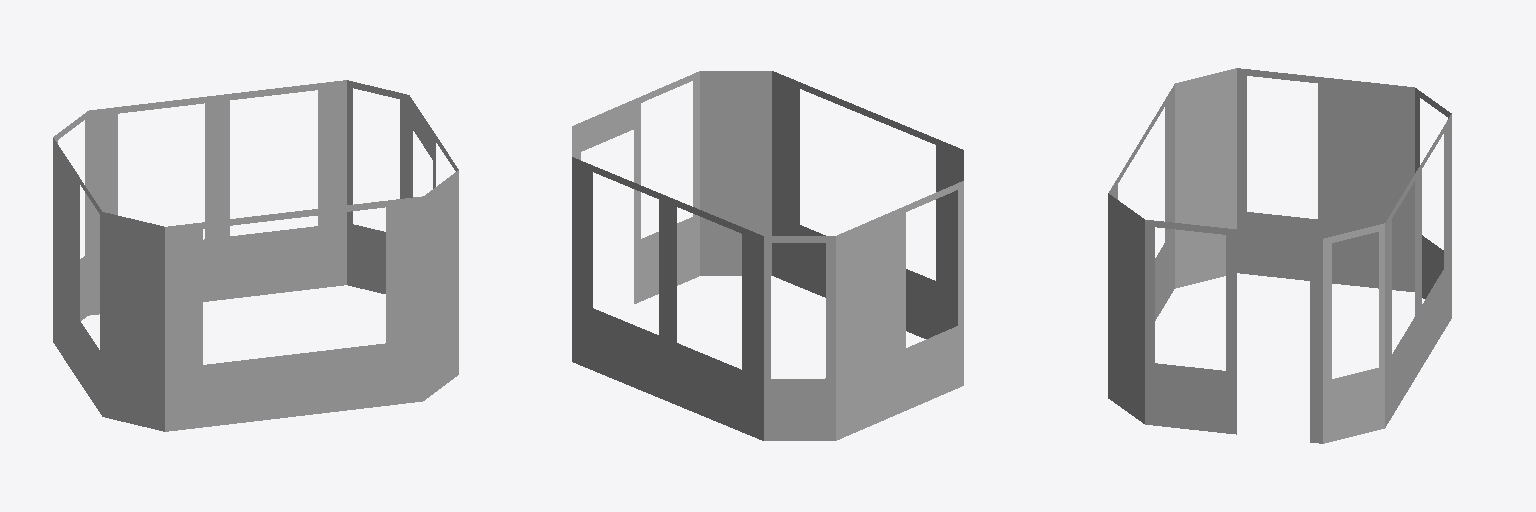
The model's file is venice_21.obj.
The picture shows the model from 3 angles: view 1: azimuth 30°, elevation 25°; view 2: azimuth 150°, elevation 25°; view 3: azimuth 270°, elevation 25°; orthographic projection.
Bounding box in the file's own units: 5.29 × 2.96 × 4.49.